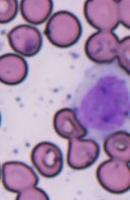L: (73, 68, 130, 132)
